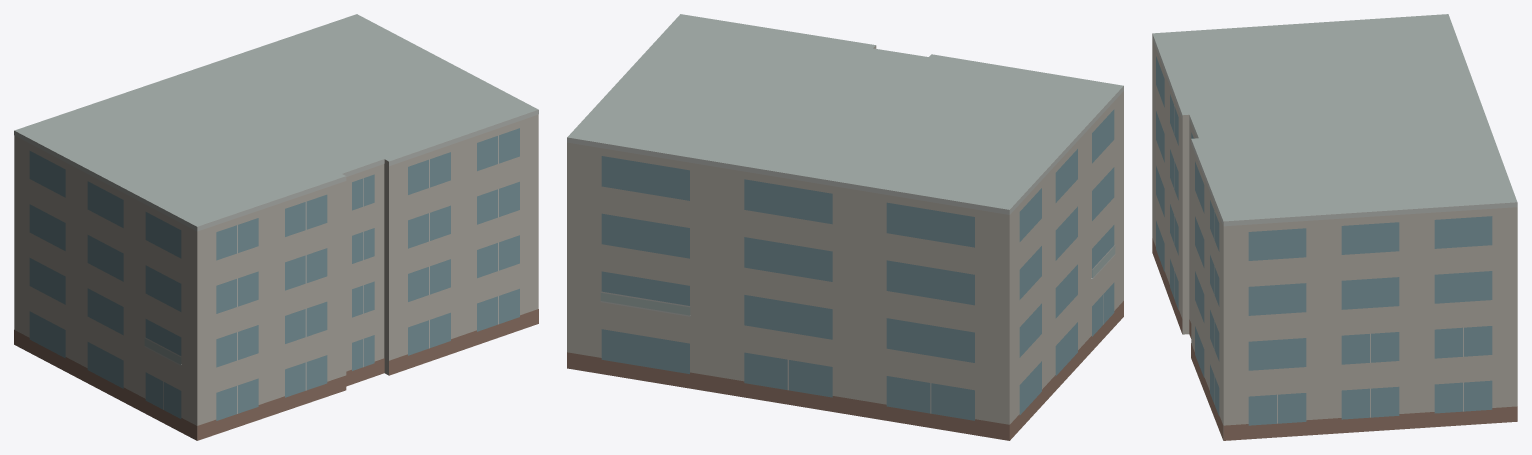
The model's file is survey-upis-32524683.glb.
3 views of the same model, side by side, from view 1: azimuth 30°, elevation 25°; view 2: azimuth 150°, elevation 25°; view 3: azimuth 270°, elevation 25° (orthographic). The views are drawn at different scales.
Visible parts, largest first — view 1: survey-upis-32524683.tmp; view 2: survey-upis-32524683.tmp; view 3: survey-upis-32524683.tmp.
Part boxes in pixels (x1=…): survey-upis-32524683.tmp: x1=14, y1=14, x2=538, y2=440; survey-upis-32524683.tmp: x1=567, y1=14, x2=1123, y2=440; survey-upis-32524683.tmp: x1=1152, y1=14, x2=1517, y2=440.
Size of the model in its own units: 22.32 by 11 by 16.6.
